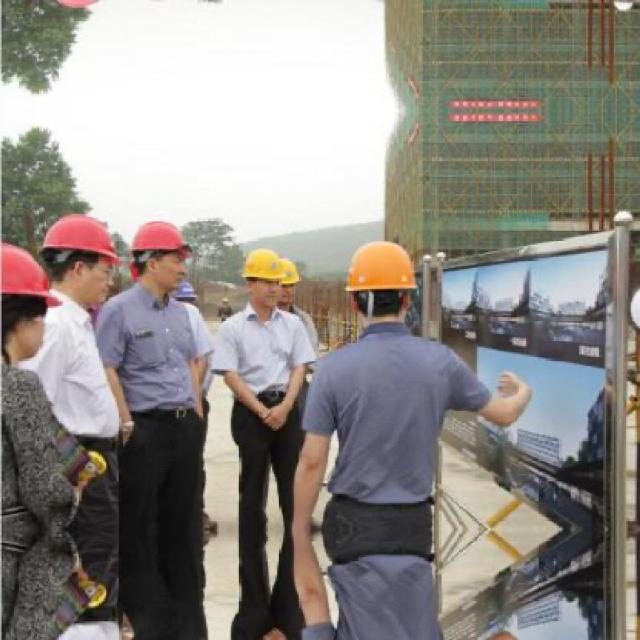helmet: (340, 237, 422, 335), (1, 236, 62, 364), (38, 211, 117, 306), (129, 215, 189, 294), (240, 243, 288, 309), (277, 258, 305, 310)
